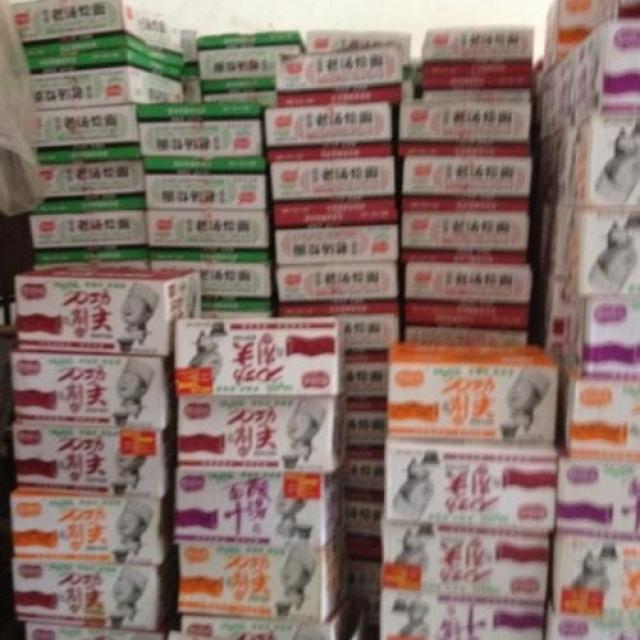box: (384, 341, 557, 449), (14, 268, 204, 356), (383, 446, 558, 536), (178, 534, 348, 622), (378, 521, 552, 606), (174, 465, 347, 547), (177, 392, 348, 472), (175, 316, 346, 395), (13, 549, 179, 630), (9, 485, 175, 565), (10, 350, 177, 428), (14, 424, 177, 497), (29, 47, 187, 109), (134, 103, 268, 175), (557, 360, 640, 460), (198, 31, 308, 106), (179, 593, 351, 640), (554, 446, 639, 541), (12, 0, 151, 58), (275, 44, 404, 106), (260, 102, 393, 161), (306, 30, 413, 101), (379, 595, 544, 640), (266, 155, 396, 212), (563, 285, 640, 381), (148, 259, 271, 319), (553, 536, 639, 620), (399, 102, 532, 156), (29, 210, 150, 269), (269, 207, 398, 262), (402, 253, 532, 306), (401, 201, 529, 253), (563, 212, 640, 297), (271, 304, 399, 355), (575, 113, 639, 214), (36, 104, 141, 165), (146, 210, 269, 262), (403, 298, 530, 348), (270, 259, 399, 306), (402, 155, 531, 201), (35, 160, 146, 210), (424, 25, 535, 74), (588, 19, 640, 116), (143, 172, 268, 211), (26, 609, 178, 640), (544, 595, 639, 639), (543, 1, 593, 69), (422, 74, 532, 102), (544, 205, 577, 282), (344, 533, 381, 595), (143, 11, 183, 68), (538, 278, 563, 360), (347, 449, 387, 500), (348, 395, 384, 450), (344, 353, 385, 399), (557, 122, 577, 211), (346, 494, 385, 538), (557, 47, 577, 131), (593, 1, 639, 33), (348, 593, 379, 639), (540, 62, 558, 140), (577, 34, 590, 119), (183, 67, 202, 102), (180, 29, 197, 68)
